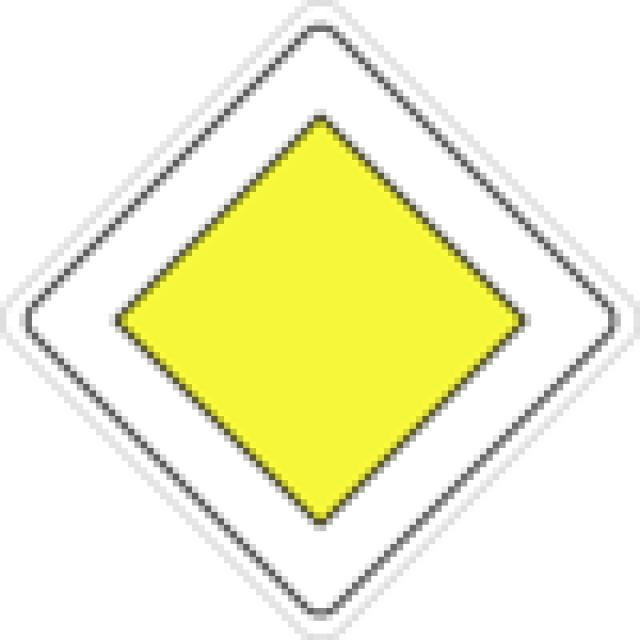priority: (0, 0, 636, 636)
